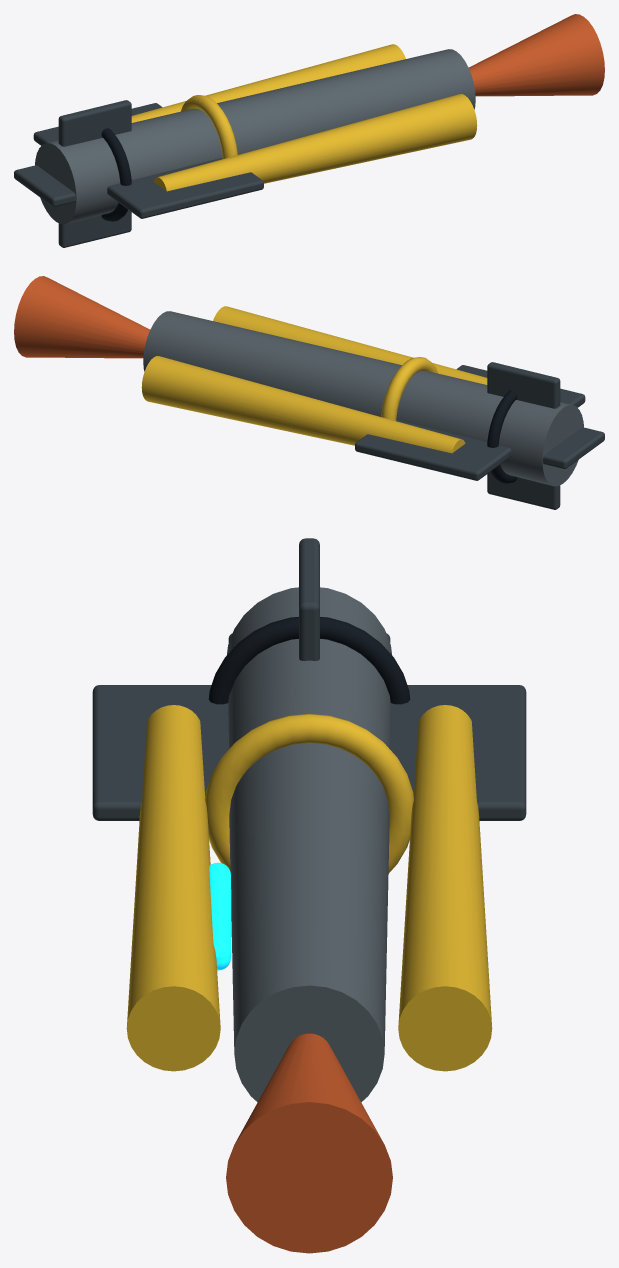
3 renders of one model, top to bottom at view 1: azimuth 30°, elevation 25°; view 2: azimuth 150°, elevation 25°; view 3: azimuth 270°, elevation 25°, orthographic. The views are drawn at different scales.
Size of the model in its own units: 4.88 by 1.1 by 1.66.
